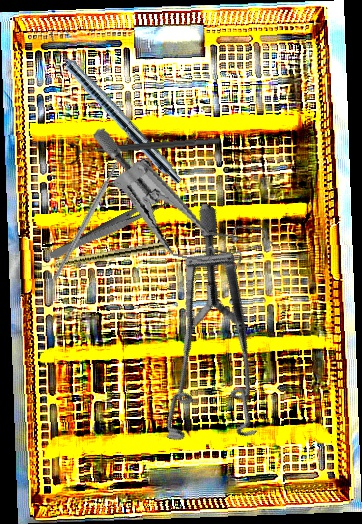Dressing Forceps: (48, 191, 172, 264)
Fixation Ring: (68, 129, 222, 166)
Handpiece: (39, 30, 188, 188), (32, 239, 167, 273)
Hook Surgical: (6, 127, 176, 280)
Speculum: (88, 202, 345, 476), (71, 125, 291, 281)
